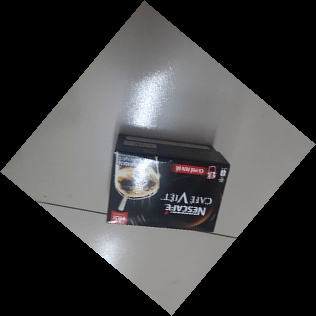CF Viet: (106, 134, 230, 237)
